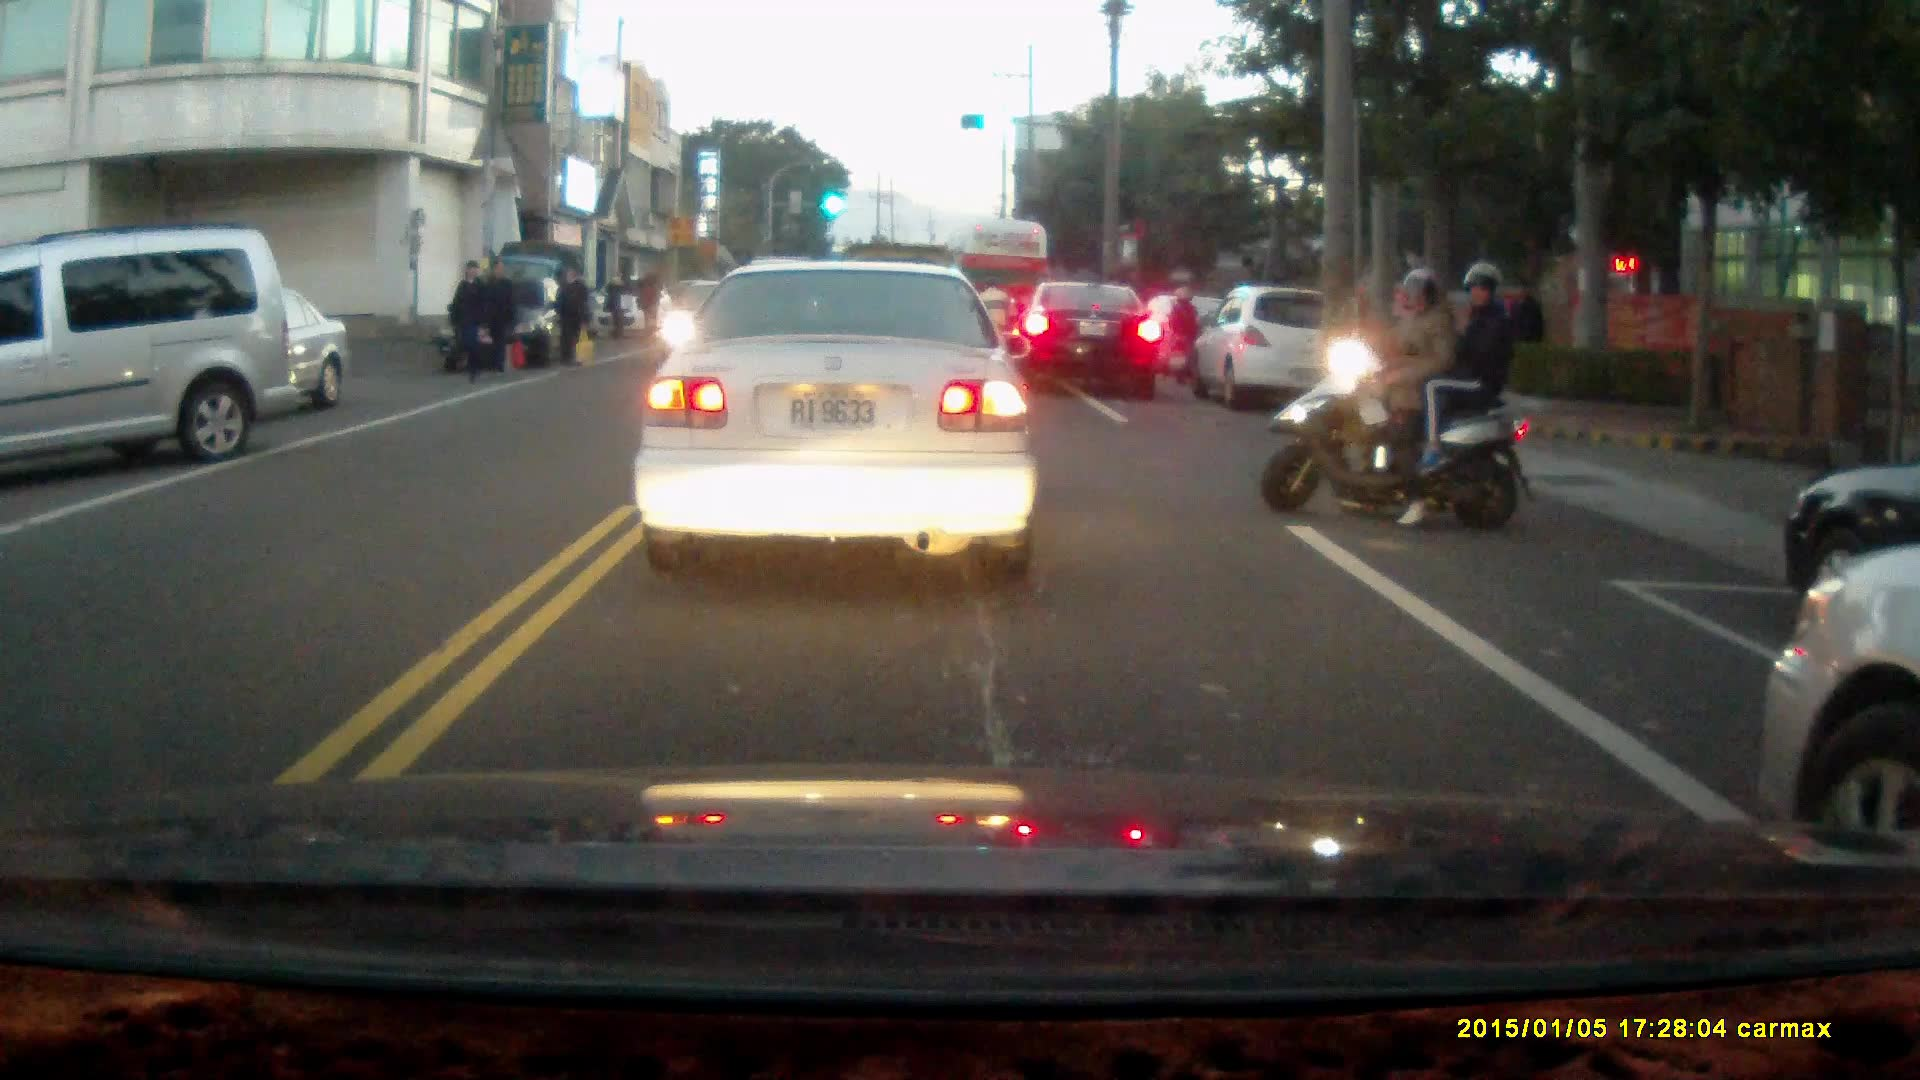pedestrian: (446, 261, 492, 385), (1501, 273, 1547, 378), (548, 262, 589, 371), (477, 265, 514, 382), (602, 265, 631, 347), (636, 267, 663, 338)
rider: (1265, 258, 1551, 534), (1161, 281, 1202, 388)
vehicle: (632, 259, 1038, 577), (1, 229, 284, 477), (1752, 549, 1920, 845), (1191, 285, 1358, 404), (1009, 280, 1162, 400), (441, 275, 581, 377)
